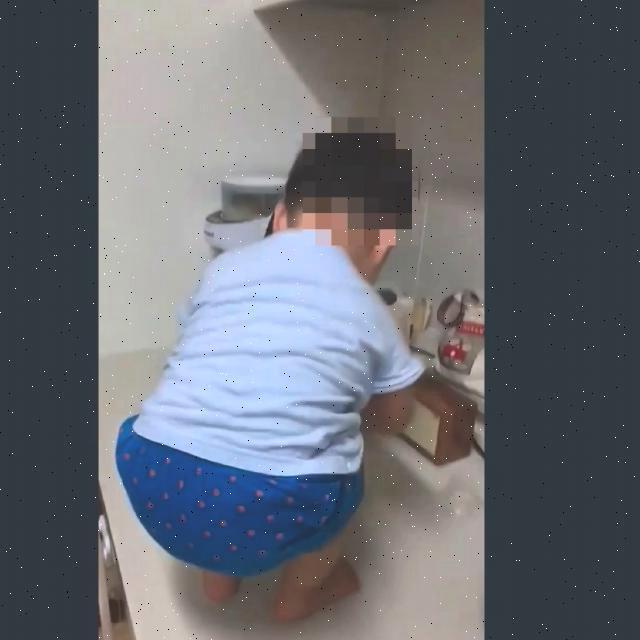child: (122, 120, 423, 639)
